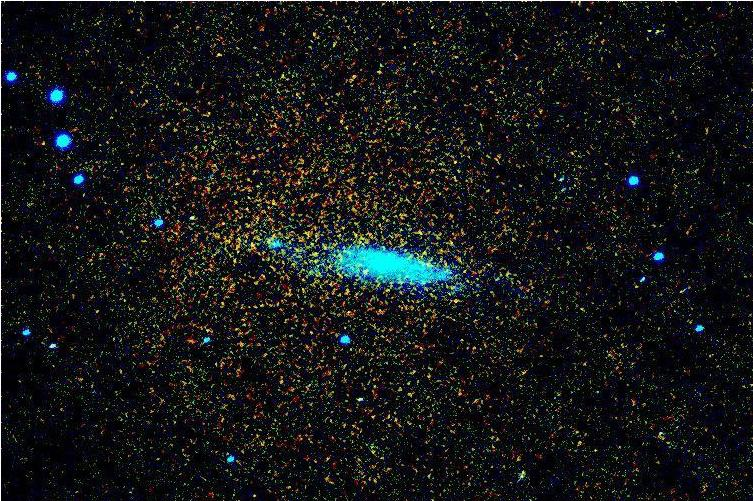star: (353, 255, 383, 285)
